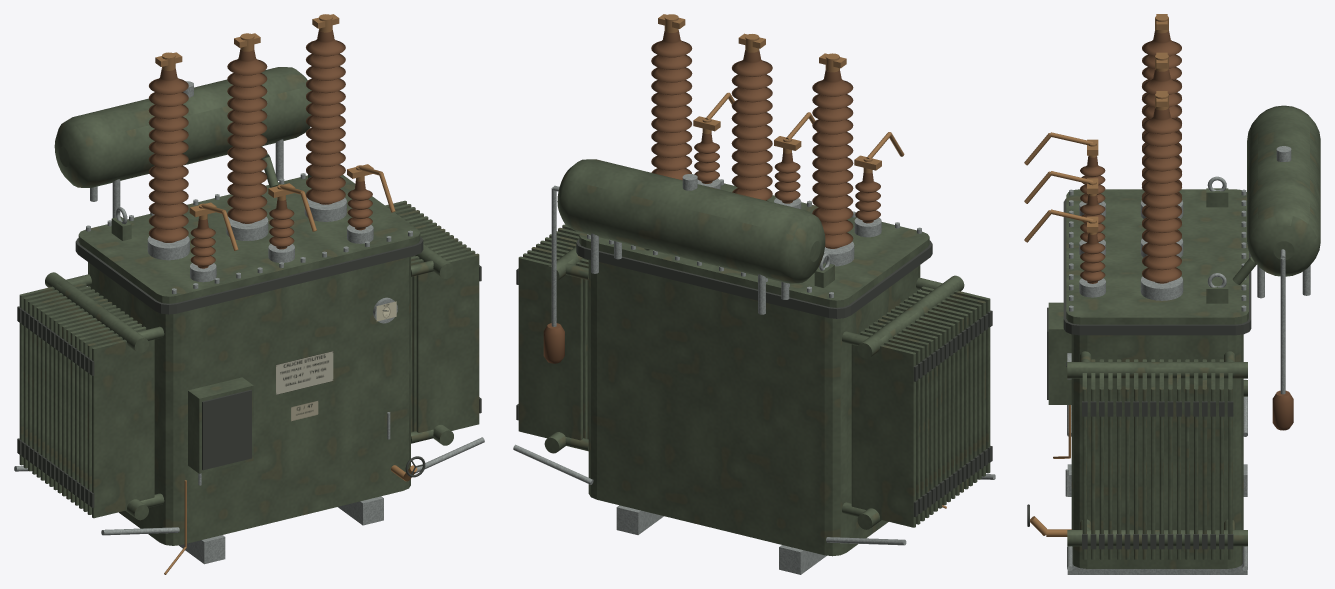
The model's file is SM_Substation_Transformer.glb.
3 renders of one model, left to right at view 1: azimuth 30°, elevation 25°; view 2: azimuth 150°, elevation 25°; view 3: azimuth 270°, elevation 25°, orthographic. The views are drawn at different scales.
Visible parts, largest first — view 1: SM_Substation_Transformer; view 2: SM_Substation_Transformer; view 3: SM_Substation_Transformer.
Part boxes in pixels (x1,y1,x2,y2): SM_Substation_Transformer: (14, 14, 484, 574); SM_Substation_Transformer: (513, 14, 995, 574); SM_Substation_Transformer: (1024, 14, 1320, 574).
Bounding box in the file's own units: 5.16 × 5.97 × 3.38.
Materials: 6 (3 with a texture image).
